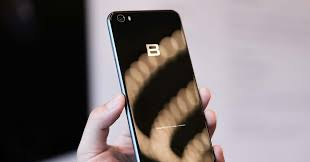bphone: (101, 4, 219, 162)
